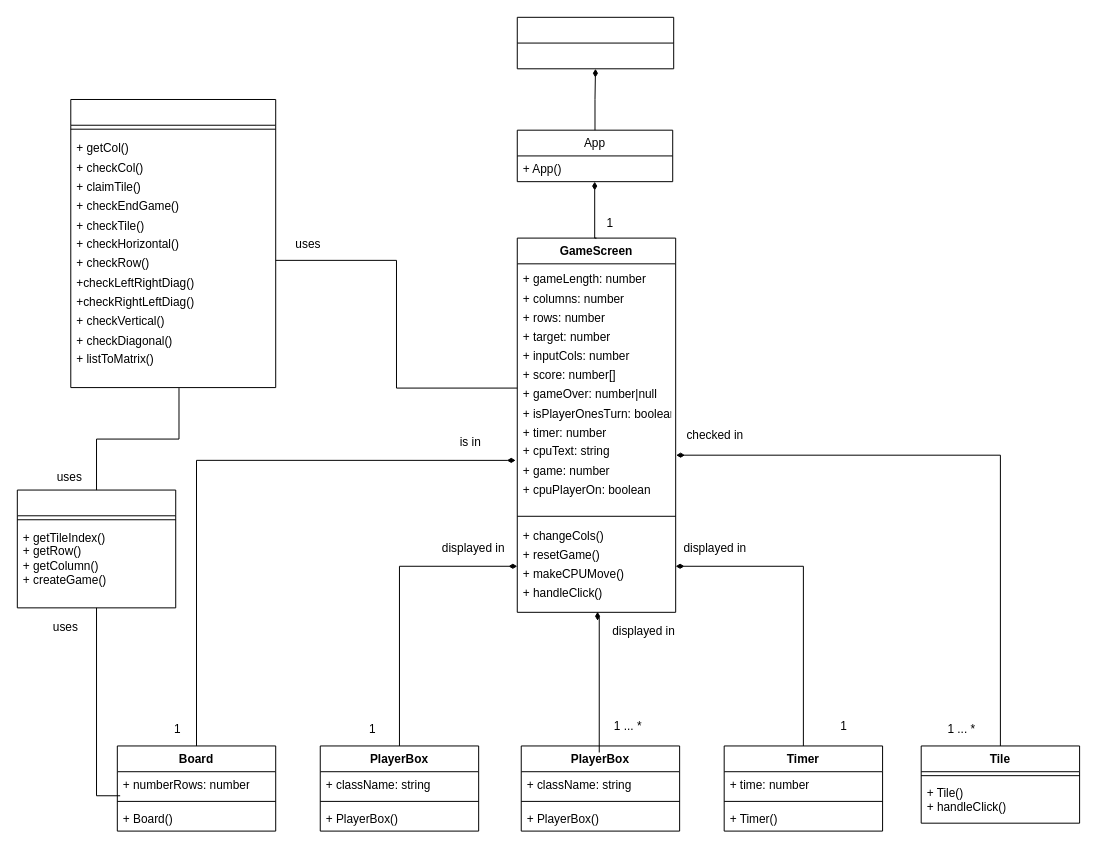
This 1097x851 diagram has some shape labels left out. Each missing label, with the box of its shape:
GameLogic: (70, 99, 276, 388)
Main: (516, 16, 674, 69)
utils: (16, 489, 176, 608)
